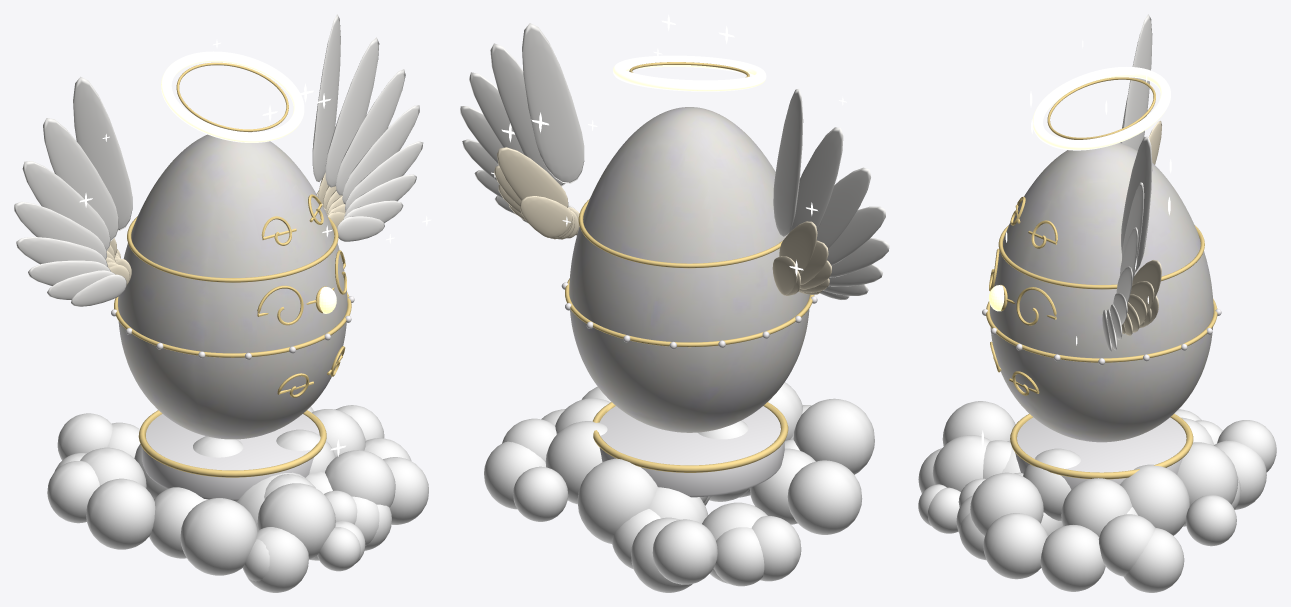
The model's file is seraphimegg.glb.
3 views of the same model, side by side, from view 1: azimuth 30°, elevation 25°; view 2: azimuth 150°, elevation 25°; view 3: azimuth 270°, elevation 25° (orthographic). The views are drawn at different scales.
Parts seen in each view (by area): view 1: SeraphimEgg_Body, SeraphimEgg_Pedestal, SeraphimEgg_CloudBase.032, SeraphimEgg_WingFeather.026, SeraphimEgg_CloudBase.028, SeraphimEgg_Halo, SeraphimEgg_CloudBase.008, SeraphimEgg_WingFeather.025, SeraphimEgg_WingFeather.006, SeraphimEgg_CloudBase.029, SeraphimEgg_WingFeather.024, SeraphimEgg_WingFeather.007 (+33 smaller); view 2: SeraphimEgg_Body, SeraphimEgg_Pedestal, SeraphimEgg_WingFeather.007, SeraphimEgg_CloudBase.037, SeraphimEgg_CloudBase.028, SeraphimEgg_CloudBase.032, SeraphimEgg_CloudBase.018, SeraphimEgg_Halo, SeraphimEgg_WingFeather.026, SeraphimEgg_WingFeather.025, SeraphimEgg_CloudBase.013, SeraphimEgg_WingFeather.006 (+27 smaller); view 3: SeraphimEgg_Body, SeraphimEgg_Pedestal, SeraphimEgg_Halo, SeraphimEgg_CloudBase.020, SeraphimEgg_CloudBase.010, SeraphimEgg_CloudBase.013, SeraphimEgg_CloudBase.029, SeraphimEgg_CloudBase.034, SeraphimEgg_CloudBase.037, SeraphimEgg_CloudBase.016, SeraphimEgg_CloudBase.014, SeraphimEgg_CloudBase.008 (+18 smaller).
Boxes of the visible parts, left/top/right/bottom form: SeraphimEgg_Body: left=118, top=131, right=347, bottom=439; SeraphimEgg_Pedestal: left=142, top=414, right=319, bottom=500; SeraphimEgg_CloudBase.032: left=180, top=498, right=257, bottom=575; SeraphimEgg_WingFeather.026: left=73, top=76, right=132, bottom=230; SeraphimEgg_CloudBase.028: left=86, top=478, right=155, bottom=549; SeraphimEgg_Halo: left=161, top=51, right=304, bottom=142; SeraphimEgg_CloudBase.008: left=257, top=483, right=335, bottom=559; SeraphimEgg_WingFeather.025: left=43, top=118, right=118, bottom=241; SeraphimEgg_WingFeather.006: left=325, top=37, right=379, bottom=187; SeraphimEgg_CloudBase.029: left=325, top=450, right=395, bottom=507; SeraphimEgg_WingFeather.024: left=22, top=161, right=110, bottom=250; SeraphimEgg_WingFeather.007: left=312, top=14, right=340, bottom=181; SeraphimEgg_Body: left=569, top=107, right=809, bottom=432; SeraphimEgg_Pedestal: left=599, top=406, right=784, bottom=497; SeraphimEgg_WingFeather.007: left=522, top=23, right=584, bottom=183; SeraphimEgg_CloudBase.037: left=577, top=458, right=657, bottom=543; SeraphimEgg_CloudBase.028: left=787, top=460, right=862, bottom=534; SeraphimEgg_CloudBase.032: left=793, top=398, right=874, bottom=474; SeraphimEgg_CloudBase.018: left=652, top=519, right=717, bottom=584; SeraphimEgg_Halo: left=613, top=55, right=766, bottom=91; SeraphimEgg_WingFeather.026: left=773, top=89, right=803, bottom=236; SeraphimEgg_WingFeather.025: left=788, top=127, right=843, bottom=233; SeraphimEgg_CloudBase.013: left=545, top=421, right=607, bottom=504; SeraphimEgg_WingFeather.006: left=490, top=43, right=565, bottom=186; SeraphimEgg_Body: left=990, top=142, right=1213, bottom=442; SeraphimEgg_Pedestal: left=1015, top=417, right=1186, bottom=489; SeraphimEgg_Halo: left=1032, top=67, right=1170, bottom=150; SeraphimEgg_CloudBase.020: left=1040, top=525, right=1105, bottom=591; SeraphimEgg_CloudBase.010: left=983, top=513, right=1047, bottom=579; SeraphimEgg_CloudBase.013: left=1120, top=464, right=1189, bottom=535; SeraphimEgg_CloudBase.029: left=970, top=472, right=1043, bottom=535; SeraphimEgg_CloudBase.034: left=1061, top=478, right=1132, bottom=536; SeraphimEgg_CloudBase.037: left=1177, top=442, right=1238, bottom=506; SeraphimEgg_CloudBase.016: left=1124, top=527, right=1184, bottom=592; SeraphimEgg_CloudBase.014: left=1098, top=514, right=1155, bottom=576; SeraphimEgg_CloudBase.008: left=932, top=435, right=990, bottom=491.
Size of the model in its own units: 5.2 by 5.85 by 4.07.
10 materials, 1 textured.
